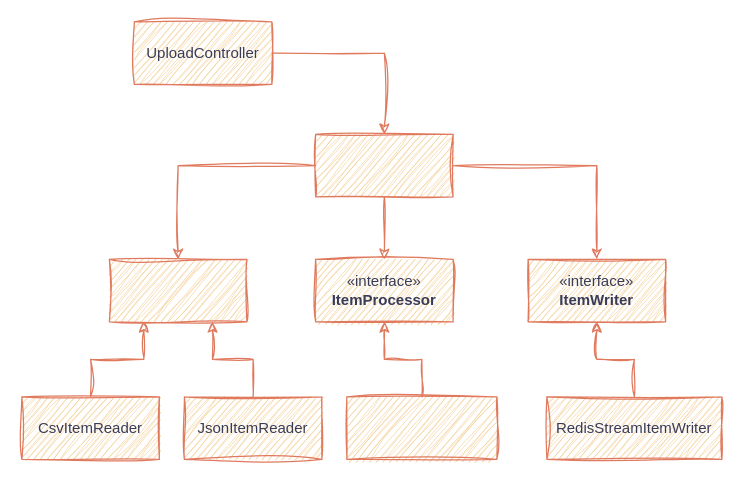
Image size: 744x481. Some labels were removed from this diagram. The shapes that lost their labels are listed below. From the top down, each one's centre as x and y in pixels, then its label:
At (383,165): "Loader".
At (177,290): "«interface» ItemReader".
At (421,427): "DefaultItemProcessor".
